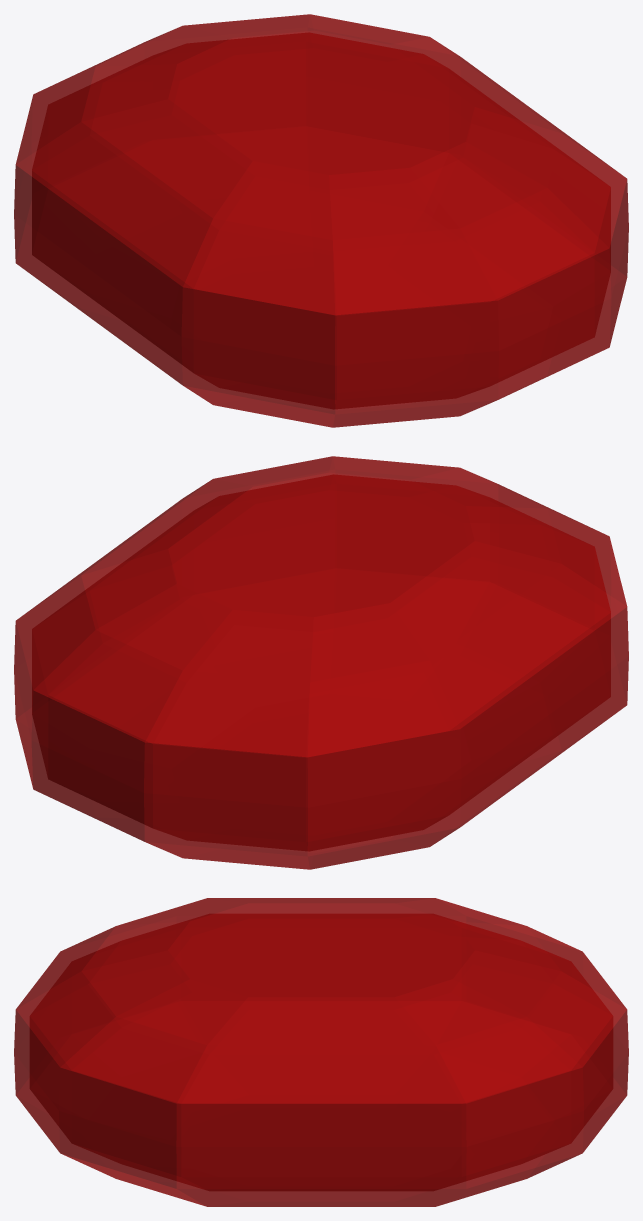
File: Rubi.obj
The picture shows the model from 3 angles, top to bottom: view 1: azimuth 30°, elevation 25°; view 2: azimuth 150°, elevation 25°; view 3: azimuth 270°, elevation 25°; orthographic projection. The views are drawn at different scales.
Parts seen in each view (by area): view 1: Circle; view 2: Circle; view 3: Circle.
Boxes of the visible parts, x1,y1,x2,y2 form: Circle: (14, 14, 628, 427); Circle: (14, 456, 628, 869); Circle: (14, 898, 628, 1206).
Size of the model in its own units: 2.04 by 1.03 by 2.8.
